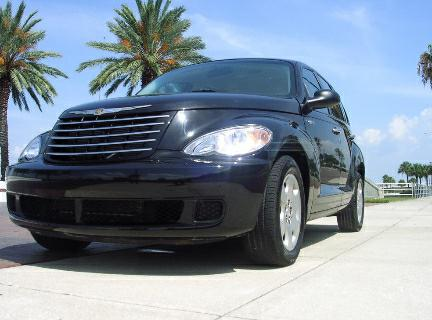克莱斯勒-PT漫步者: (4, 52, 373, 269)
